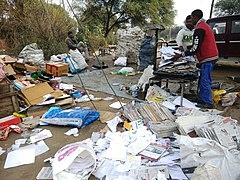paper: (174, 132, 240, 178), (48, 136, 100, 179), (190, 115, 240, 149), (18, 79, 66, 109), (1, 143, 40, 169), (135, 138, 169, 162), (43, 59, 73, 78)
plastic: (38, 105, 102, 130)
